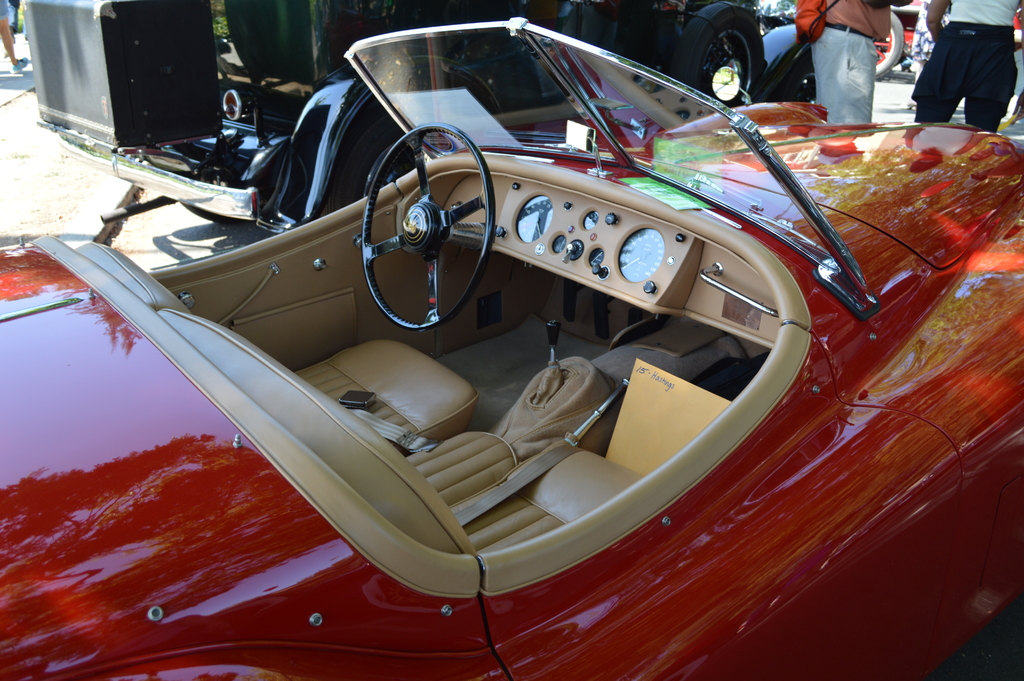Car: (62, 37, 954, 681), (21, 0, 817, 231), (872, 0, 1023, 74)
